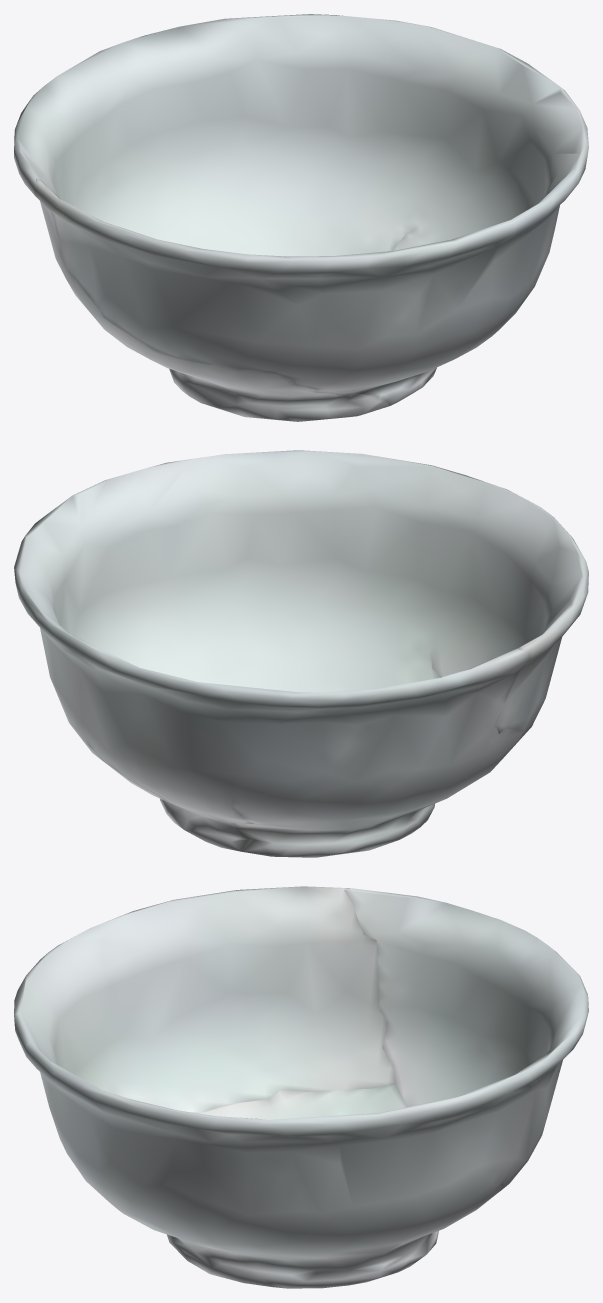
File: Calphalon_Kitchen_Essentials_12_Cast_Iron_Fry_Pan_Black-medium.glb
The picture shows the model from 3 angles, top to bottom: view 1: azimuth 30°, elevation 25°; view 2: azimuth 150°, elevation 25°; view 3: azimuth 270°, elevation 25°; orthographic projection.
Visible parts, largest first — view 1: Calphalon_Kitchen_Essentials_12_Cast_Iron_Fry_Pan_Black; view 2: Calphalon_Kitchen_Essentials_12_Cast_Iron_Fry_Pan_Black; view 3: Calphalon_Kitchen_Essentials_12_Cast_Iron_Fry_Pan_Black.
Boxes of the visible parts, left/top/right/bottom form: Calphalon_Kitchen_Essentials_12_Cast_Iron_Fry_Pan_Black: left=14, top=14, right=588, bottom=421; Calphalon_Kitchen_Essentials_12_Cast_Iron_Fry_Pan_Black: left=14, top=450, right=588, bottom=857; Calphalon_Kitchen_Essentials_12_Cast_Iron_Fry_Pan_Black: left=14, top=886, right=588, bottom=1288.
Bounding box in the file's own units: 0.3217 × 0.1459 × 0.3227.
1 material, 1 textured.
